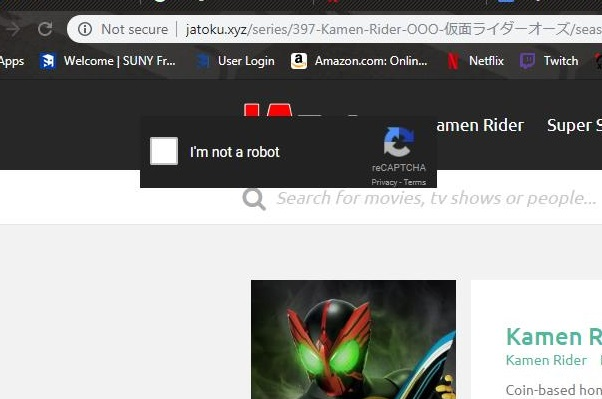captcha: (150, 136, 286, 164)
